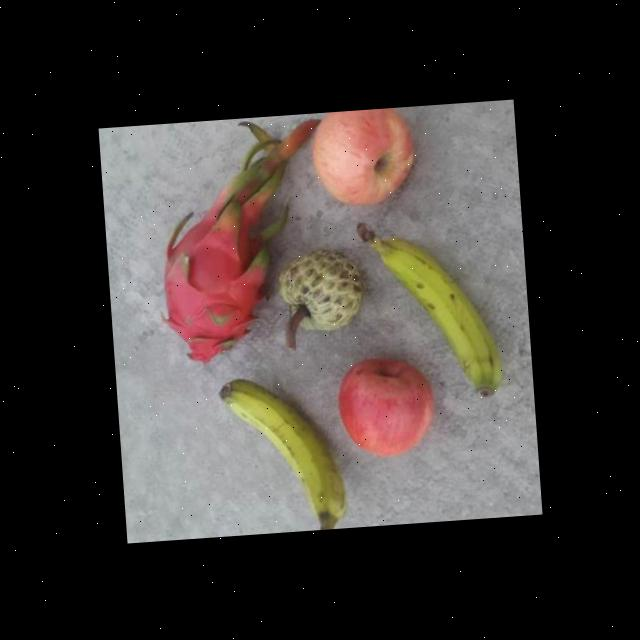Sakya fruit: (276, 243, 367, 336)
apple: (308, 106, 426, 214), (334, 350, 440, 460)
banana: (354, 208, 509, 411), (216, 370, 352, 535)
pitaya: (154, 193, 284, 370)
